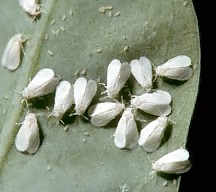whitefly: (14, 67, 59, 108), (138, 108, 173, 153), (148, 148, 191, 180), (99, 59, 130, 101), (16, 106, 42, 156), (68, 77, 98, 120), (126, 91, 173, 118), (48, 79, 76, 124), (115, 105, 139, 150), (152, 54, 193, 80), (86, 102, 126, 127), (2, 31, 25, 72), (131, 54, 153, 93)
